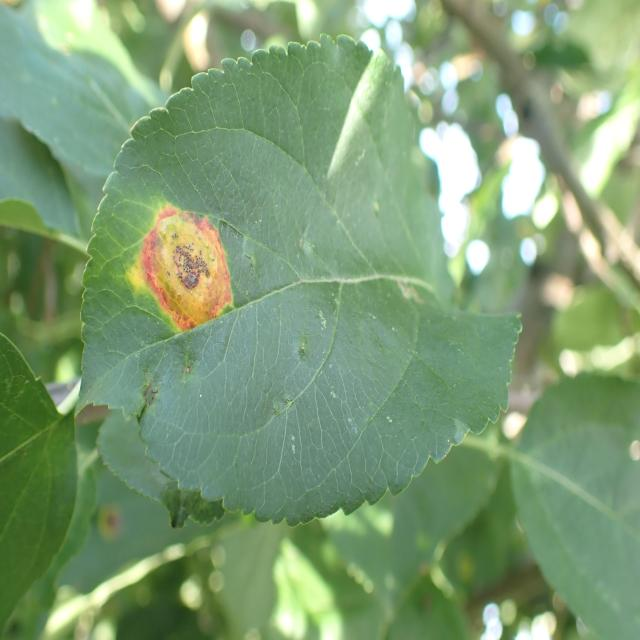Rust: (124, 193, 257, 335)
